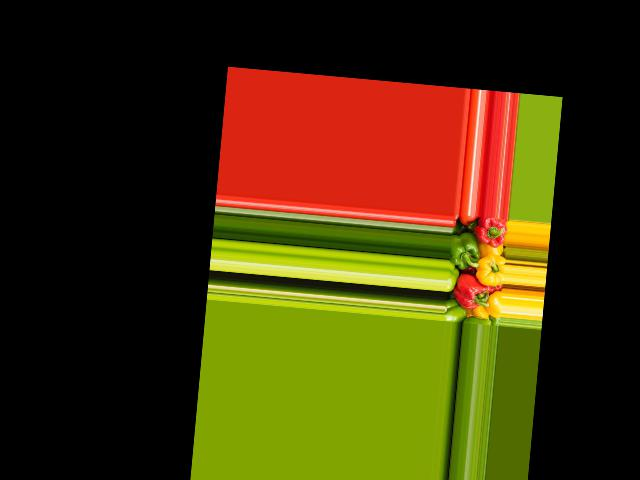bell_pepper: (472, 216, 507, 252)
